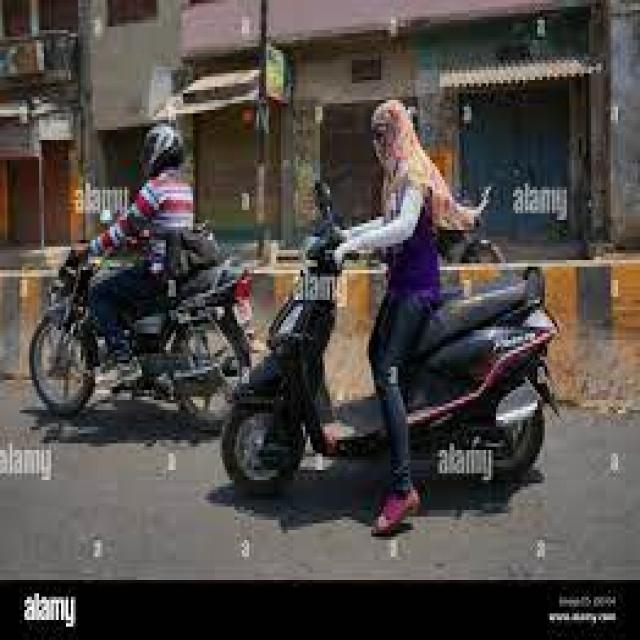Scooty: (232, 101, 542, 514)
